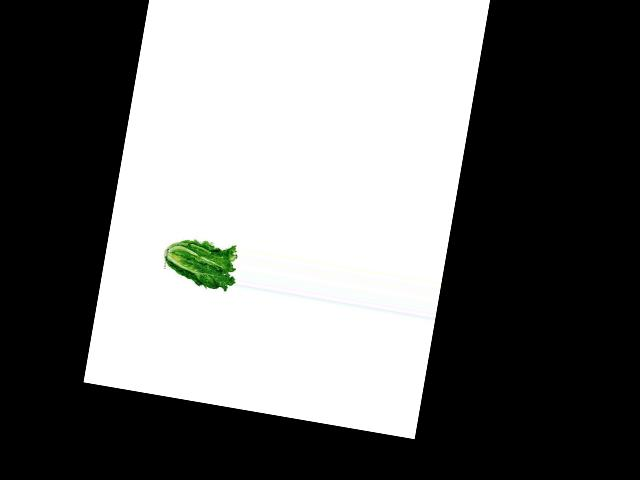lettuce: (161, 232, 241, 293)
